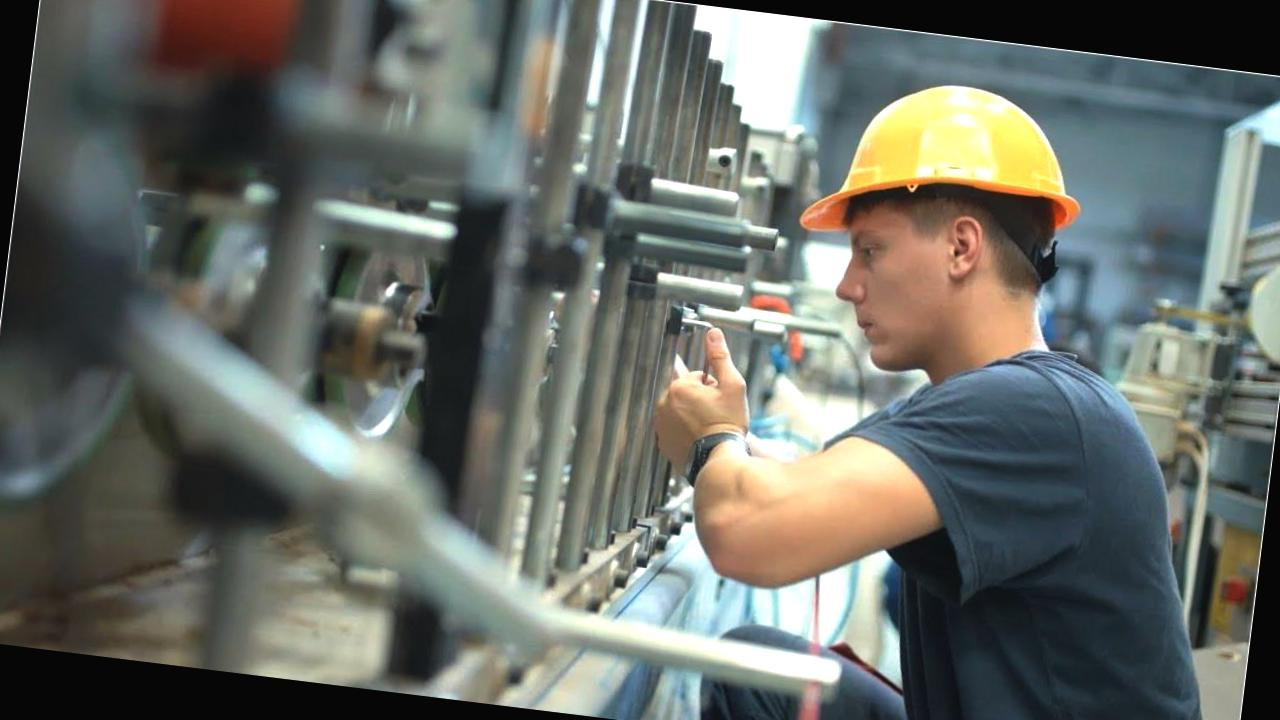helmet: (786, 60, 1092, 268)
no_vest: (834, 323, 1181, 720)
person: (719, 71, 1224, 720)
